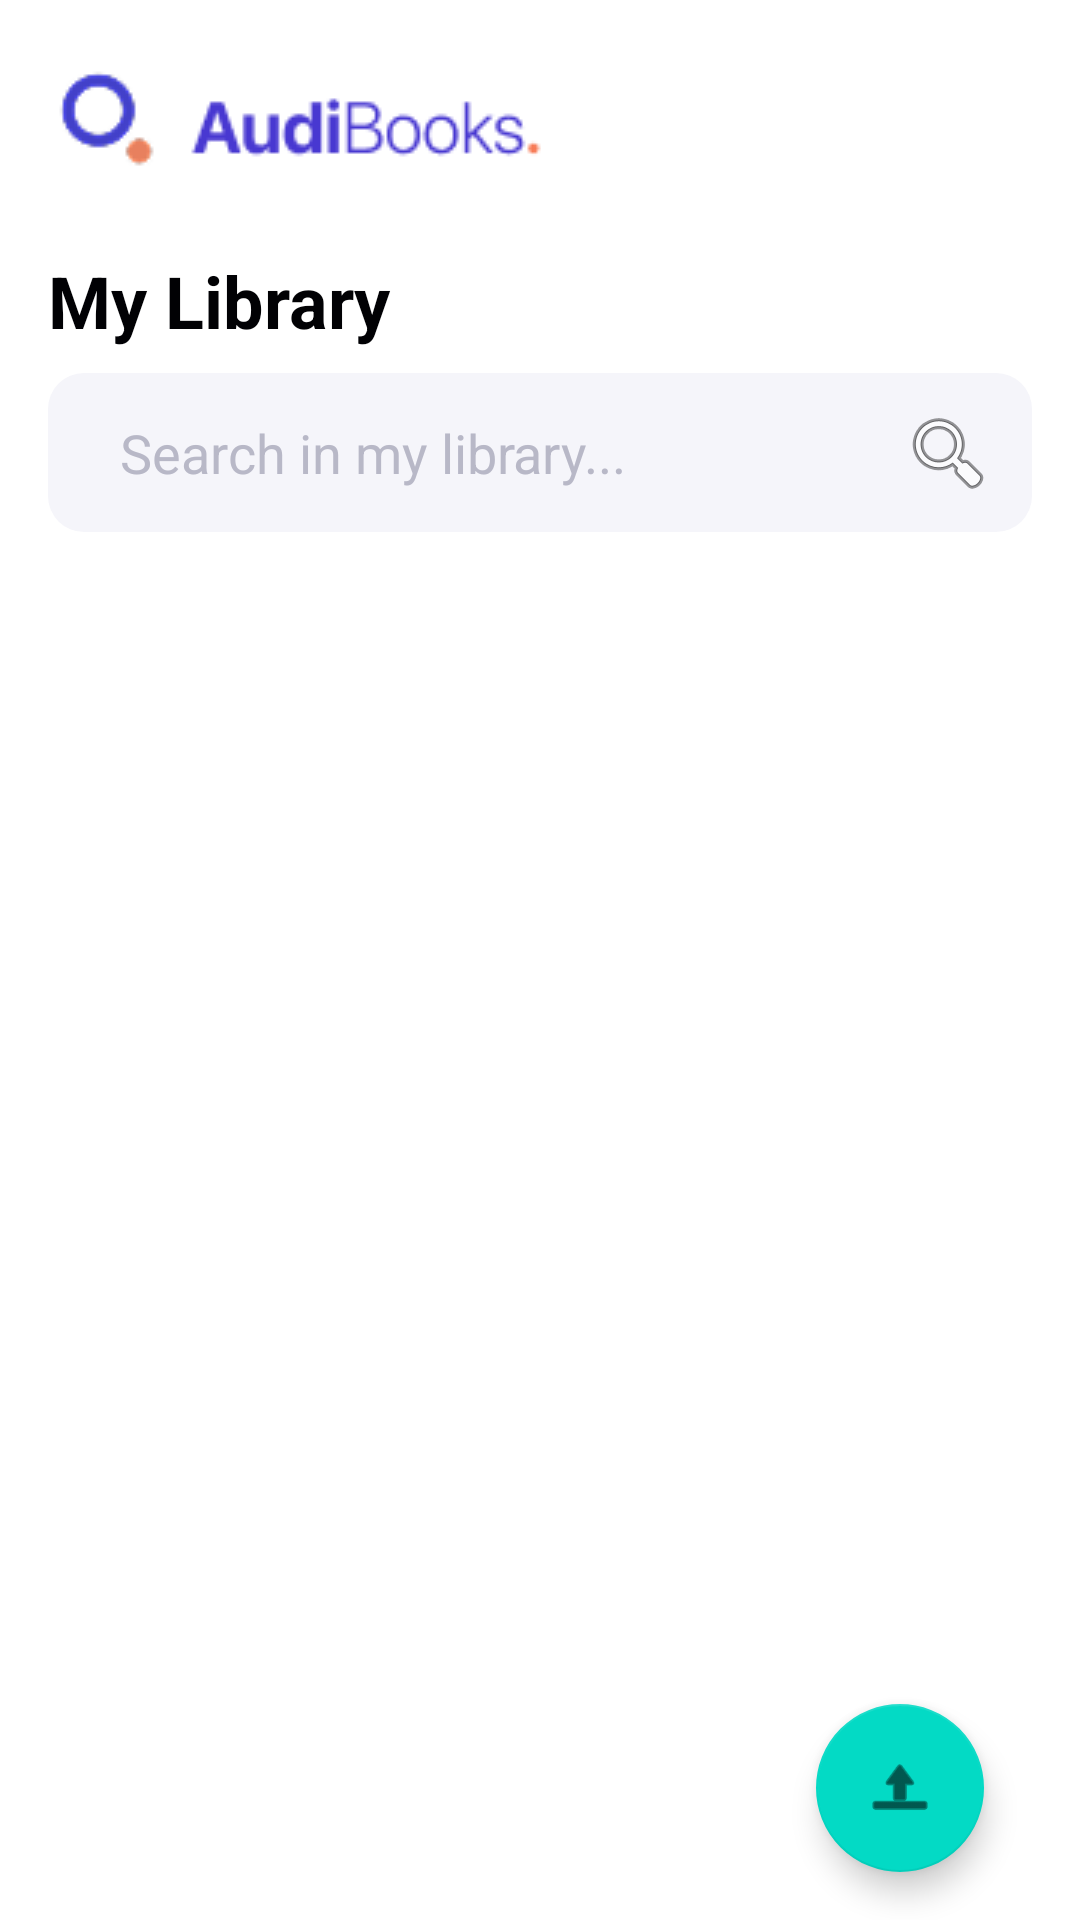

Icons on this 1080px x 1920px Android screen, each with its box as (x1, y1, x2, y2):
Tìm kiếm: (912, 418, 984, 489)
Tải lên sách nói: (816, 1704, 984, 1872)
